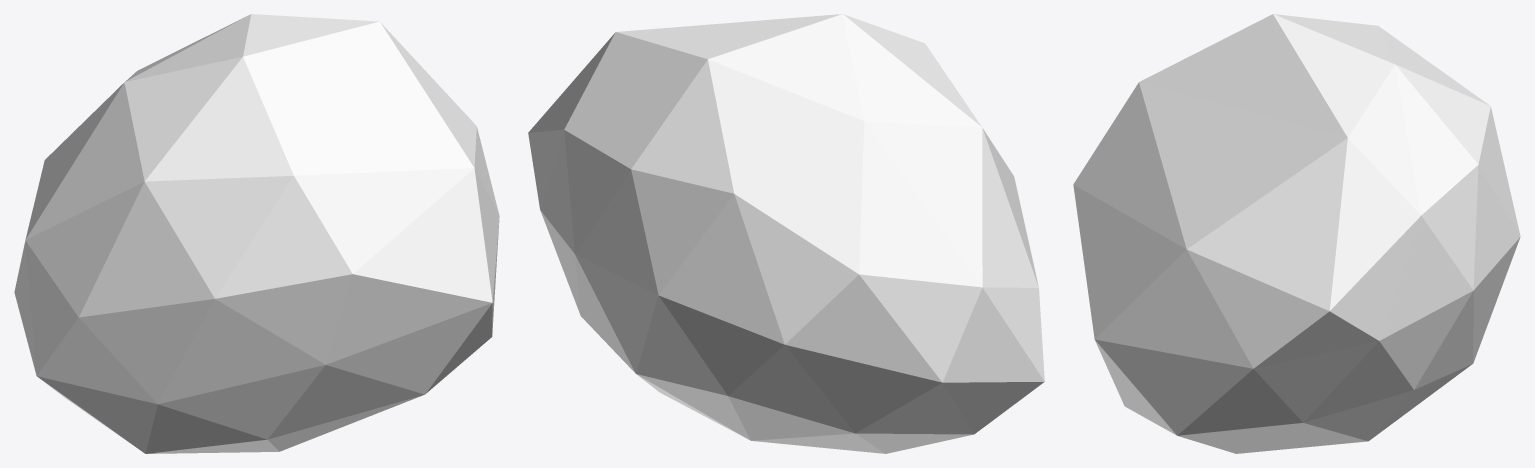
File: Props_PaperFold.fbx
3 views of the same model, side by side, from view 1: azimuth 30°, elevation 25°; view 2: azimuth 150°, elevation 25°; view 3: azimuth 270°, elevation 25° (orthographic). The views are drawn at different scales.
Parts seen in each view (by area): view 1: Props_PaperFold; view 2: Props_PaperFold; view 3: Props_PaperFold.
Part boxes in pixels (<box>): Props_PaperFold: <box>14,14,499,453</box>; Props_PaperFold: <box>528,14,1044,453</box>; Props_PaperFold: <box>1073,14,1520,453</box>.
Size of the model in its own units: 32.07 by 25.48 by 25.63.
